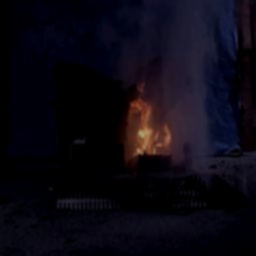fire: (126, 87, 173, 159)
